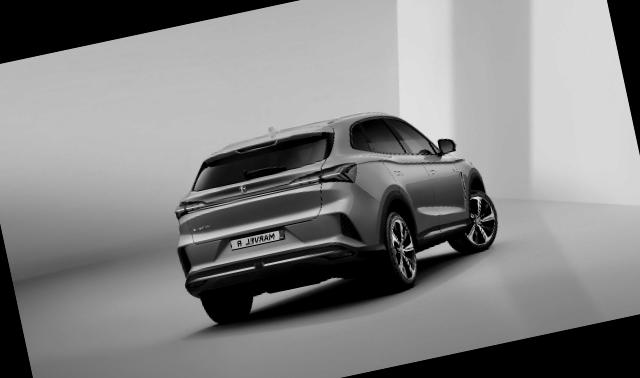suv: (144, 72, 524, 346)
